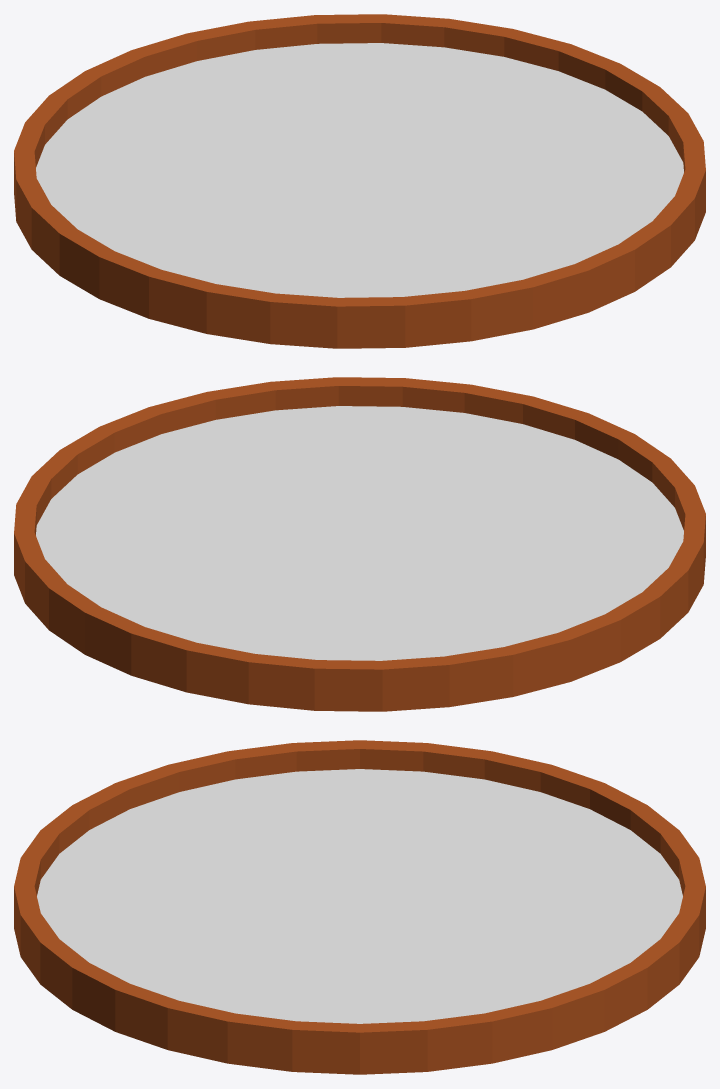
The model's file is clock.fbx.
The picture shows the model from 3 angles, top to bottom: view 1: azimuth 30°, elevation 25°; view 2: azimuth 150°, elevation 25°; view 3: azimuth 270°, elevation 25°; orthographic projection.
Parts seen in each view (by area): view 1: 圓柱體; view 2: 圓柱體; view 3: 圓柱體.
Boxes of the visible parts, <box> form: 圓柱體: <box>14,14,705,348</box>; 圓柱體: <box>14,377,705,711</box>; 圓柱體: <box>14,740,705,1074</box>.
Size of the model in its own units: 200 by 13.43 by 200.
